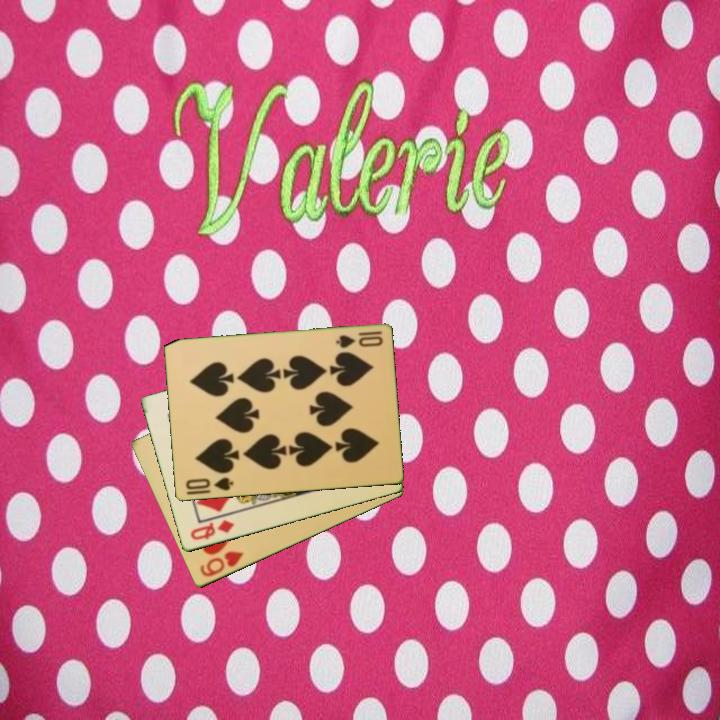10s: (332, 328, 385, 351), (182, 474, 236, 494)
6h: (196, 548, 247, 580)
Qd: (186, 516, 237, 543)
